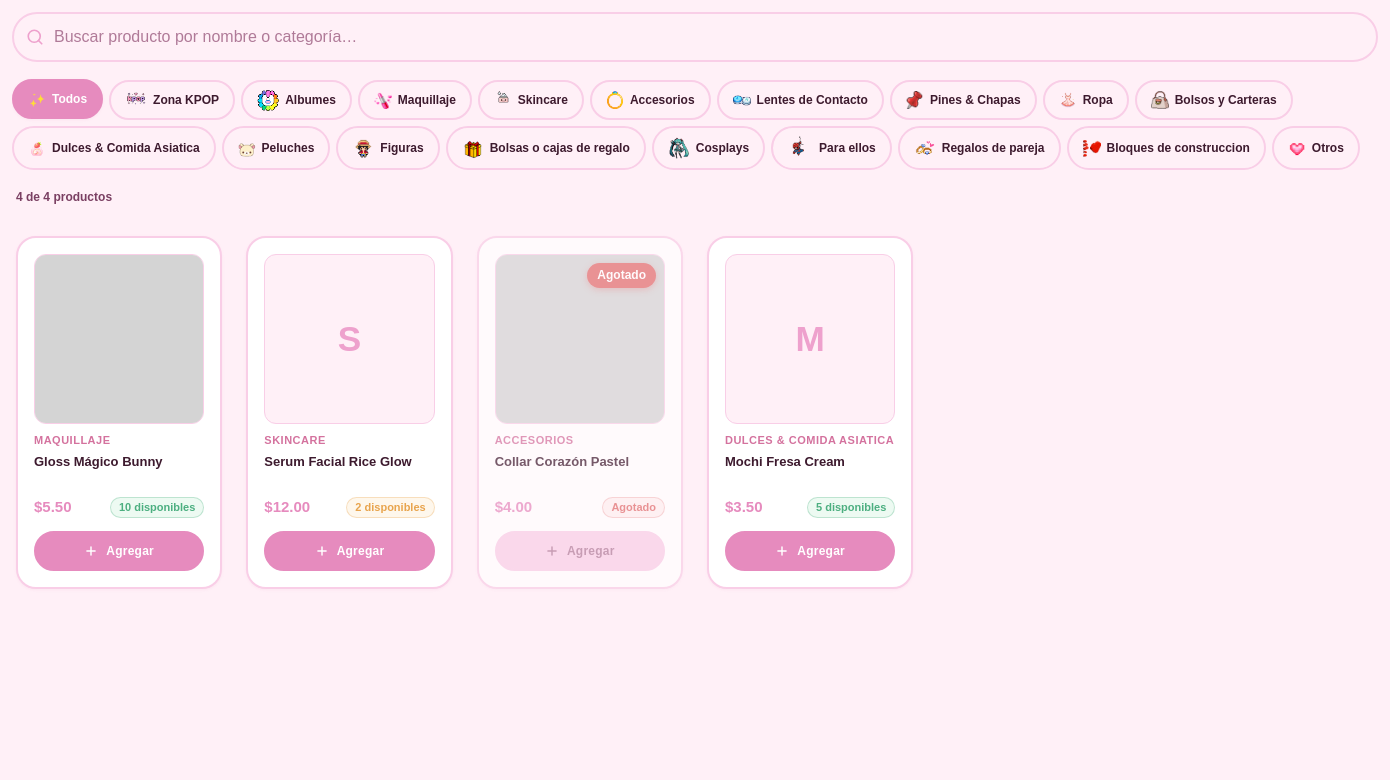
it: AdminProductPicker › filtra productos al hacer clic en un chip de categoría
The image size is (1390, 780).
What coordinates should you click on to do the following:
click the tab "Skincare"
I would click on:
 (531, 100)
Its box is [478,80,584,120].
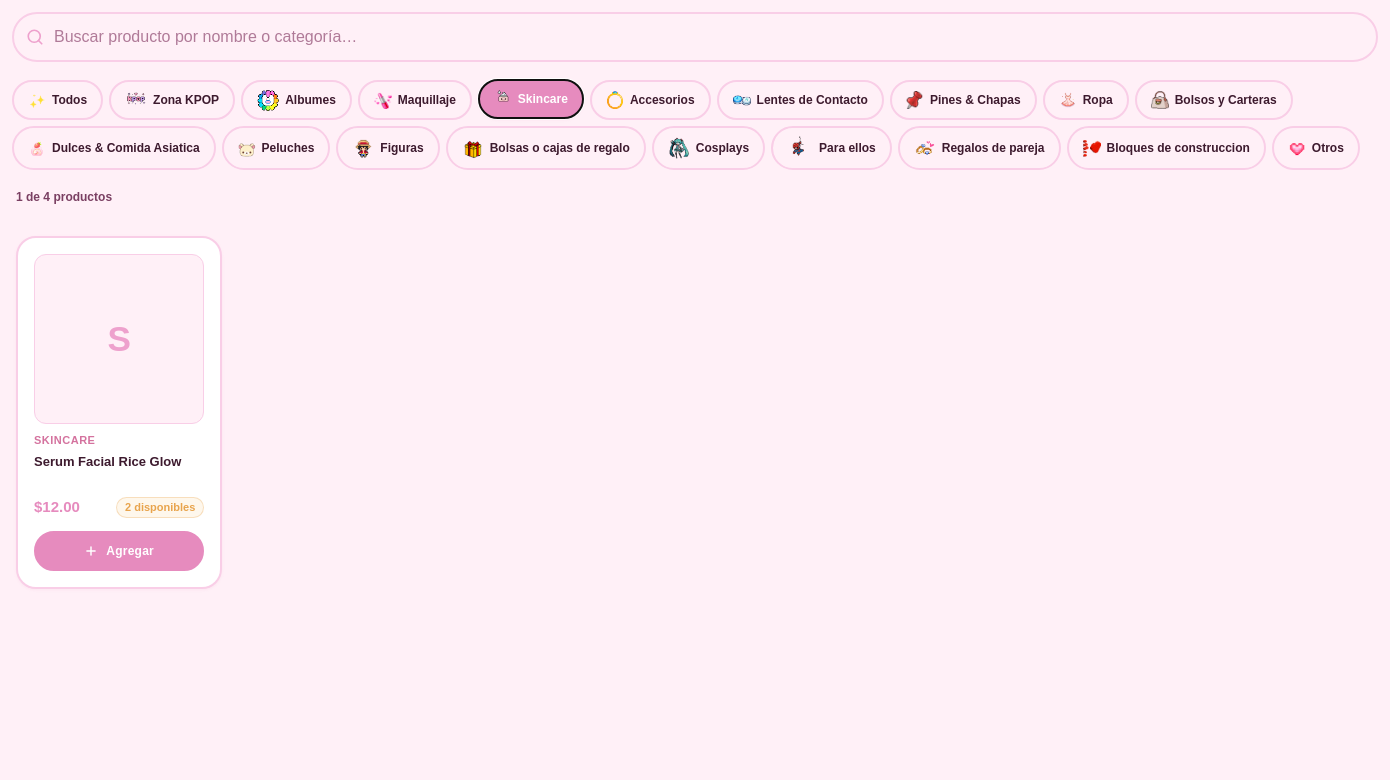
Expected: the text "Serum Facial Rice Glow" is shown, [34,454,181,468]
Expected: the text "Gloss Mágico Bunny" is gone
Expected: the text "Collar Corazón Pastel" is gone
What coordinates should you click on to do the following:
click the tab "Todos"
I would click on:
 (58, 100)
Its box is [12,80,103,120].
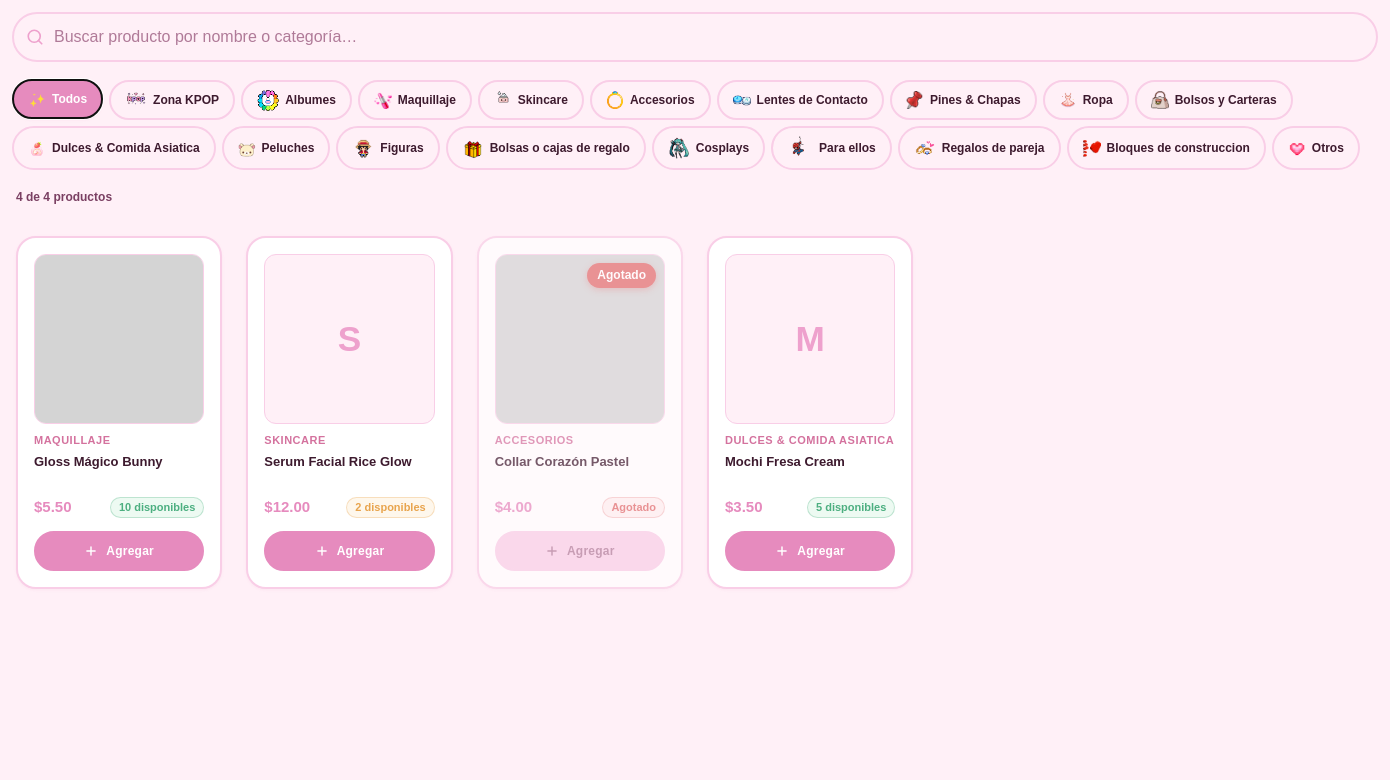
Expected: the text "Serum Facial Rice Glow" is shown, [264,454,412,468]
Expected: the text "Gloss Mágico Bunny" is shown, [34,454,163,468]
